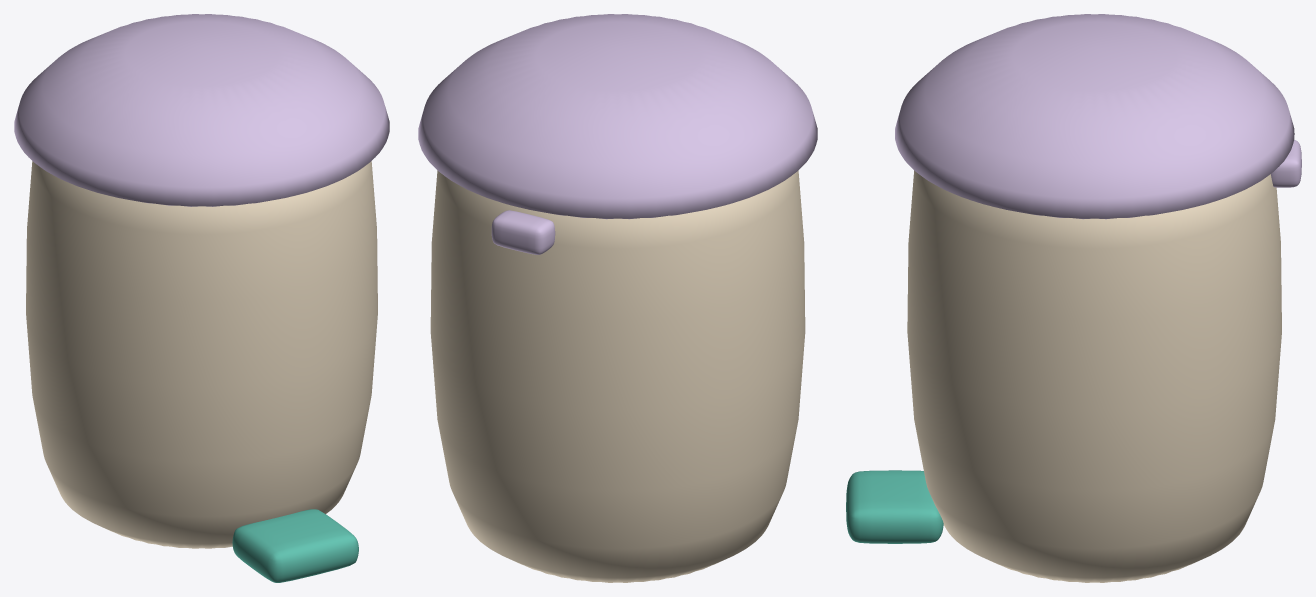
Rendered from bin_c.glb.
3 renders of one model, left to right at view 1: azimuth 30°, elevation 25°; view 2: azimuth 150°, elevation 25°; view 3: azimuth 270°, elevation 25°, orthographic. The views are drawn at different scales.
Visible parts, largest first — view 1: body, lid; view 2: body, lid; view 3: body, lid.
Part boxes in pixels (x1,y1,x2,y2): body: [26, 161, 377, 582]; lid: [14, 14, 389, 206]; body: [430, 170, 805, 582]; lid: [418, 14, 817, 219]; body: [846, 140, 1301, 582]; lid: [895, 14, 1294, 219].
Size of the model in its own units: 0.3857 by 0.5187 by 0.44.
